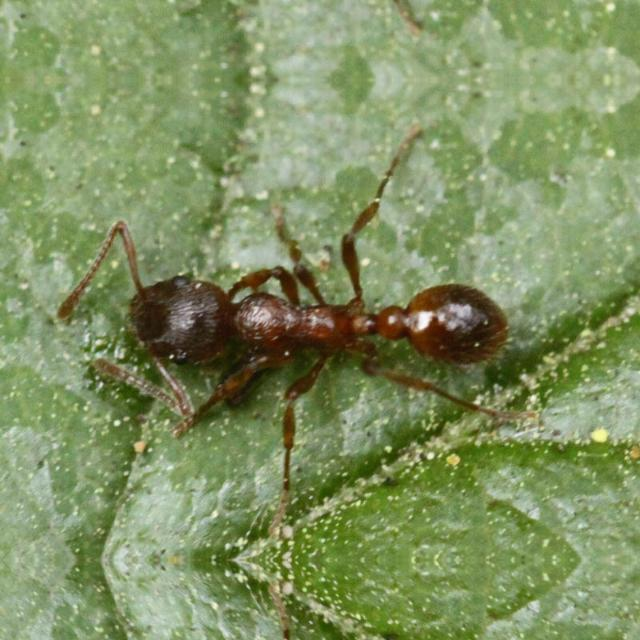Myrmica: (82, 207, 590, 436)
